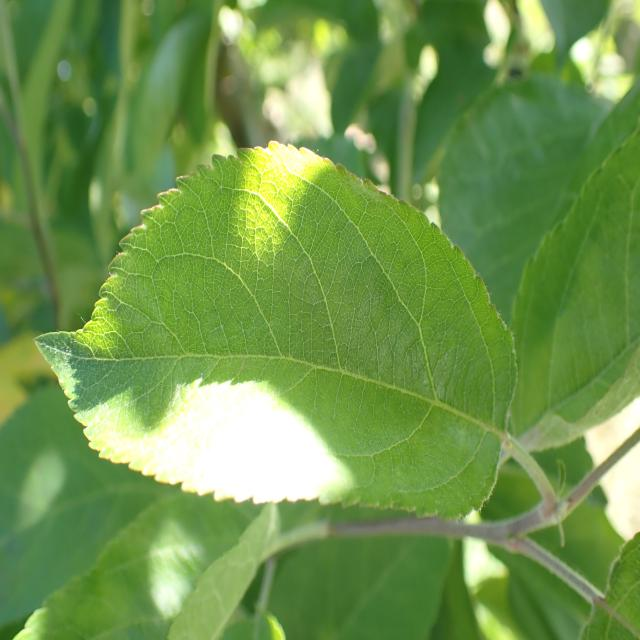healthy: (35, 139, 518, 522), (510, 124, 640, 448), (11, 498, 258, 639), (578, 530, 640, 640)
